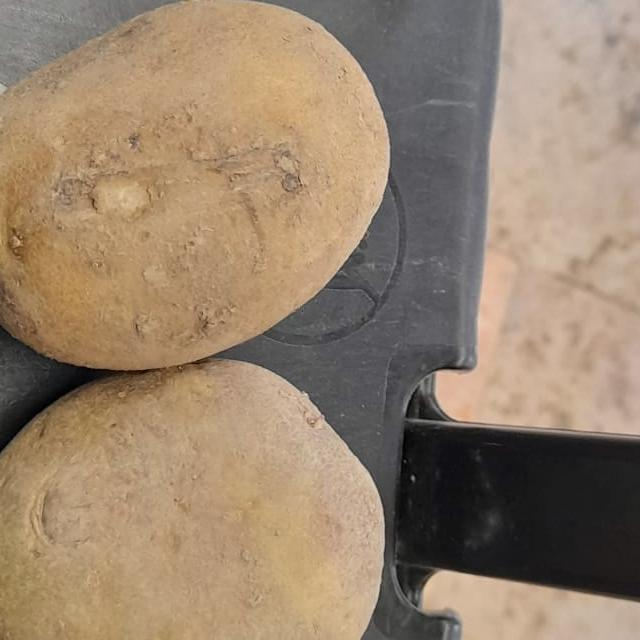potato: (0, 313, 506, 640), (0, 0, 416, 383)
